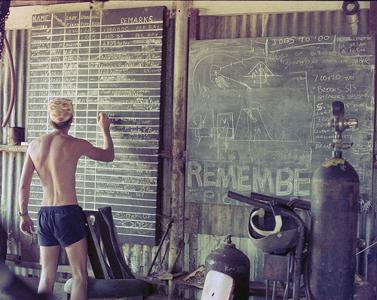person: (19, 96, 115, 298)
